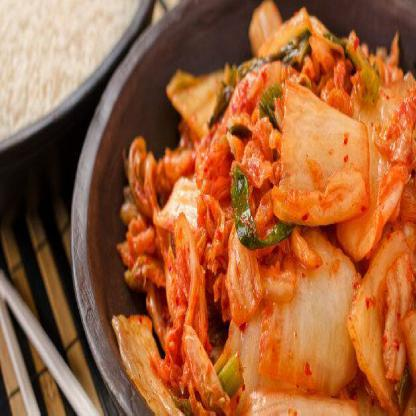kimchi: (119, 33, 416, 415)
